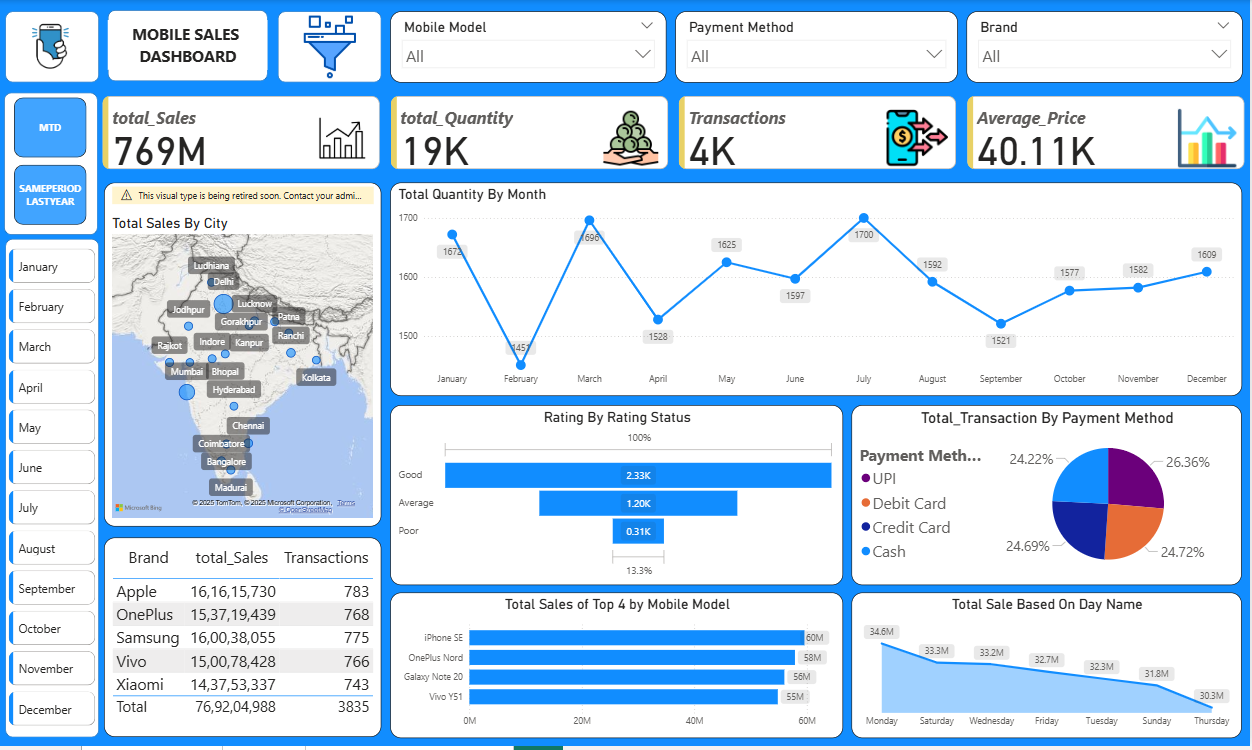

The dashboard page shown, as its layout file describes it:
{"tool":"powerbi","page":{"name":"DASHBOARD","canvas":[1710,1020],"ordinal":0},"visuals":[{"type":"shape","box":[8.5,15.4,128.2,97.4],"z":0},{"type":"image","box":[8.5,15.4,124.8,95.7],"z":1000},{"type":"shape","box":[6.8,126.5,128.2,194.8],"z":2000},{"type":"shape","box":[8.5,326.4,128.2,681.9],"z":3000},{"type":"advancedSlicerVisual","fields":{"Values":["custome_Calender.date.Variation.Date Hierarchy.Month"]},"box":[8.5,335,128.2,668.3],"z":4000},{"type":"cardVisual","fields":{"Data":["Sales_Data.total_Sales","Sales_Data.total_Quantity","Sales_Data.Total_Transaction","Sales_Data.Average_Price"]},"box":[136.7,126.5,1574.1,111.1],"z":5000},{"type":"slicer","fields":{"Values":["Sales_Data.Payment Method"]},"box":[924.6,15.4,386.3,97.4],"z":6000},{"type":"slicer","fields":{"Values":["Sales_Data.Mobile Model"]},"box":[535,15.4,377.7,97.4],"z":7000},{"type":"slicer","fields":{"Values":["Sales_Data.Brand"]},"box":[1322.9,15.4,377.7,97.4],"z":8000},{"type":"shape","box":[381.1,15.4,141.9,97.4],"z":9000},{"type":"image","box":[381.1,15.4,141.9,97.4],"z":10000},{"type":"shape","box":[148.7,13.7,218.8,97.4],"z":11000},{"type":"textbox","box":[148.7,27.3,218.8,68.4],"z":12000},{"type":"map","title":"Total Sales By City","fields":{"Category":["Sales_Data.City"],"Size":["Sales_Data.total_Sales"]},"box":[143.4,250.1,379.5,470.4],"z":13000},{"type":"lineChart","title":"Total Quantity By Month","fields":{"Y":["Sales_Data.total_Quantity"],"Category":["custome_Calender.date.Variation.Date Hierarchy.Month"]},"box":[535.1,250.1,1164.7,292.1],"z":14000},{"type":"funnel","title":"Rating By Rating Status","fields":{"Y":["CountNonNull(Sales_Data.Customer_Ratings)"],"Category":["Sales_Data.Customer Rating Status"]},"box":[535.1,554.4,619.1,246.6],"z":15000},{"type":"pieChart","title":"Total_Transaction By Payment Method","fields":{"Category":["Sales_Data.Payment Method"],"Y":["Sales_Data.Total_Transaction"]},"box":[1166.5,554.4,533.4,246.6],"z":16000},{"type":"clusteredBarChart","title":"Total Sales of Top 4 by Mobile Model","fields":{"Y":["Sales_Data.total_Sales"],"Category":["Sales_Data.Mobile Model"]},"box":[535.1,809.7,619.1,199.4],"z":17000},{"type":"areaChart","title":"Total Sale Based On Day Name","fields":{"Category":["custome_Calender.Day Name"],"Y":["Sales_Data.total_Sales"]},"box":[1166.5,809.7,533.4,199.4],"z":18000},{"type":"tableEx","fields":{"Values":["Sales_Data.Brand","Sales_Data.total_Sales","Sales_Data.Total_Transaction"]},"box":[143.4,734.5,379.5,272.8],"z":19000},{"type":"pageNavigator","box":[21,132.9,99.7,174.9],"z":19001}]}

Visuals, with their boxes in screenshot pixels (x1, y1, x2, y2), scaled from the page's 1710x1020 canvas onto the 1252x750 screenshot:
shape: <box>6,11,100,83</box>
image: <box>6,11,98,82</box>
shape: <box>5,93,99,236</box>
shape: <box>6,240,100,741</box>
advancedSlicerVisual - custome_Calender.date.Variation.Date Hierarchy.Month: <box>6,246,100,738</box>
cardVisual - Sales_Data.total_Sales x Sales_Data.total_Quantity: <box>100,93,1251,175</box>
slicer - Sales_Data.Payment Method: <box>677,11,960,83</box>
slicer - Sales_Data.Mobile Model: <box>392,11,668,83</box>
slicer - Sales_Data.Brand: <box>969,11,1245,83</box>
shape: <box>279,11,383,83</box>
image: <box>279,11,383,83</box>
shape: <box>109,10,269,82</box>
textbox: <box>109,20,269,70</box>
"Total Sales By City" map: <box>105,184,383,530</box>
"Total Quantity By Month" lineChart: <box>392,184,1245,399</box>
"Rating By Rating Status" funnel: <box>392,408,845,589</box>
"Total_Transaction By Payment Method" pieChart: <box>854,408,1245,589</box>
"Total Sales of Top 4 by Mobile Model" clusteredBarChart: <box>392,595,845,742</box>
"Total Sale Based On Day Name" areaChart: <box>854,595,1245,742</box>
tableEx - Sales_Data.Brand x Sales_Data.total_Sales: <box>105,540,383,741</box>
pageNavigator: <box>15,98,88,226</box>
